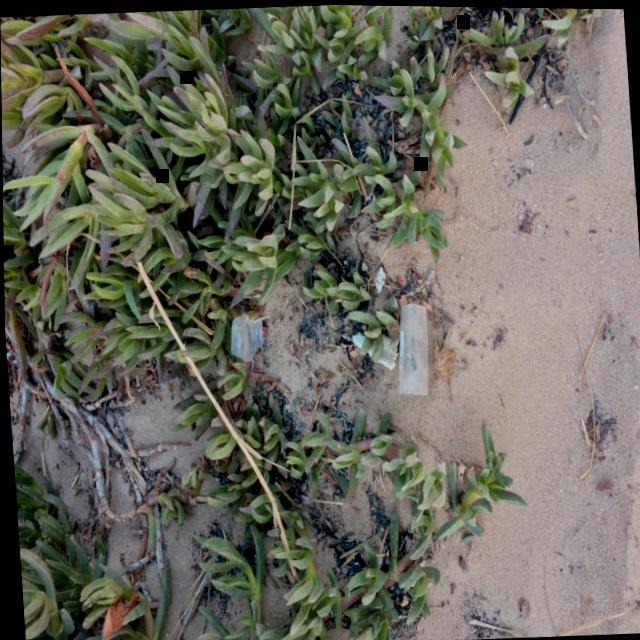Plastic film: (398, 302, 427, 392), (230, 311, 265, 369)
Styrofoam piece: (370, 332, 397, 368), (351, 330, 375, 355), (374, 265, 385, 291)
